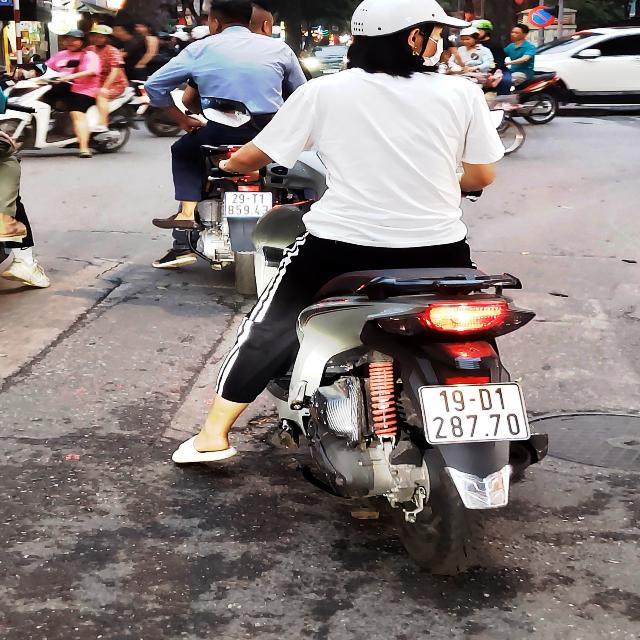license_plate: (414, 381, 538, 451), (223, 191, 276, 221)
